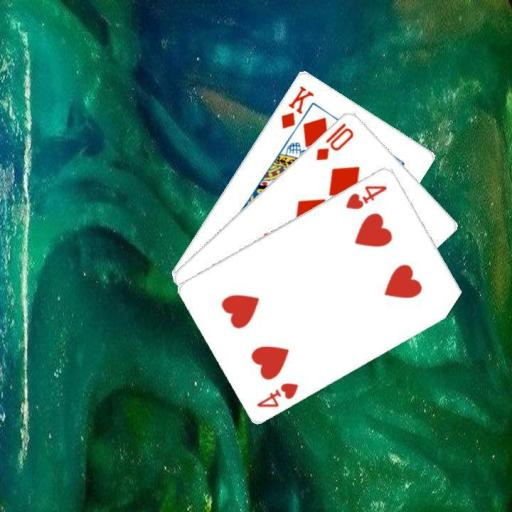10D: (312, 120, 356, 162)
4H: (253, 378, 300, 409), (343, 182, 389, 211)
KD: (277, 82, 316, 130)
